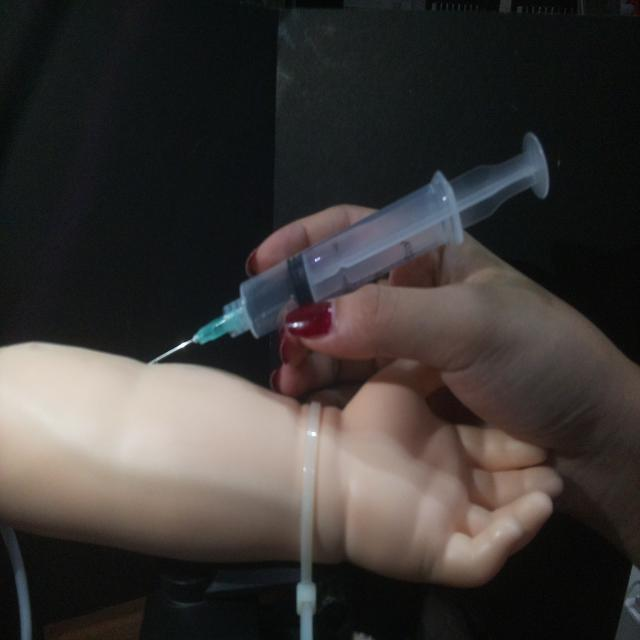26deg: (144, 126, 554, 368)
